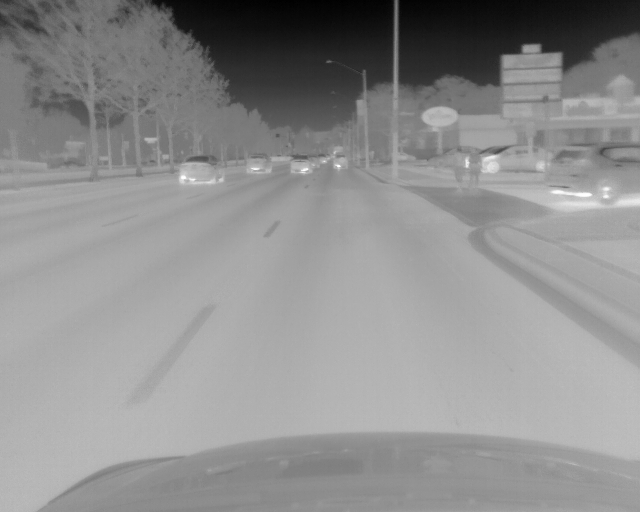car: (543, 142, 640, 203), (464, 146, 552, 173), (176, 155, 227, 185), (243, 152, 272, 173), (289, 154, 313, 175), (331, 154, 348, 173), (309, 156, 318, 169), (318, 154, 327, 165)
people: (466, 144, 483, 196), (451, 145, 464, 196)
